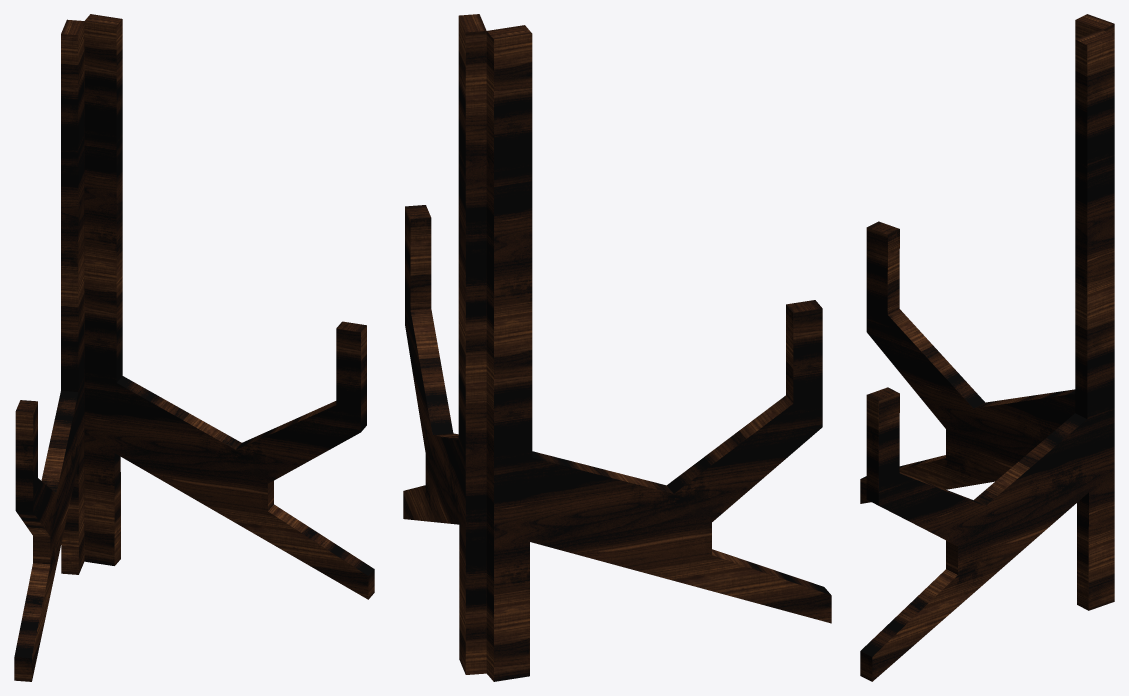
The model's file is MenuStand.FBX.
3 renders of one model, left to right at view 1: azimuth 30°, elevation 25°; view 2: azimuth 150°, elevation 25°; view 3: azimuth 270°, elevation 25°, orthographic. The views are drawn at different scales.
Parts seen in each view (by area): view 1: Object002; view 2: Object002; view 3: Object002.
Part boxes in pixels (left/top/right/bottom): Object002: left=14, top=14, right=374, bottom=681; Object002: left=403, top=14, right=831, bottom=681; Object002: left=860, top=14, right=1114, bottom=681.
Size of the model in its own units: 25.74 by 36.92 by 15.04.
